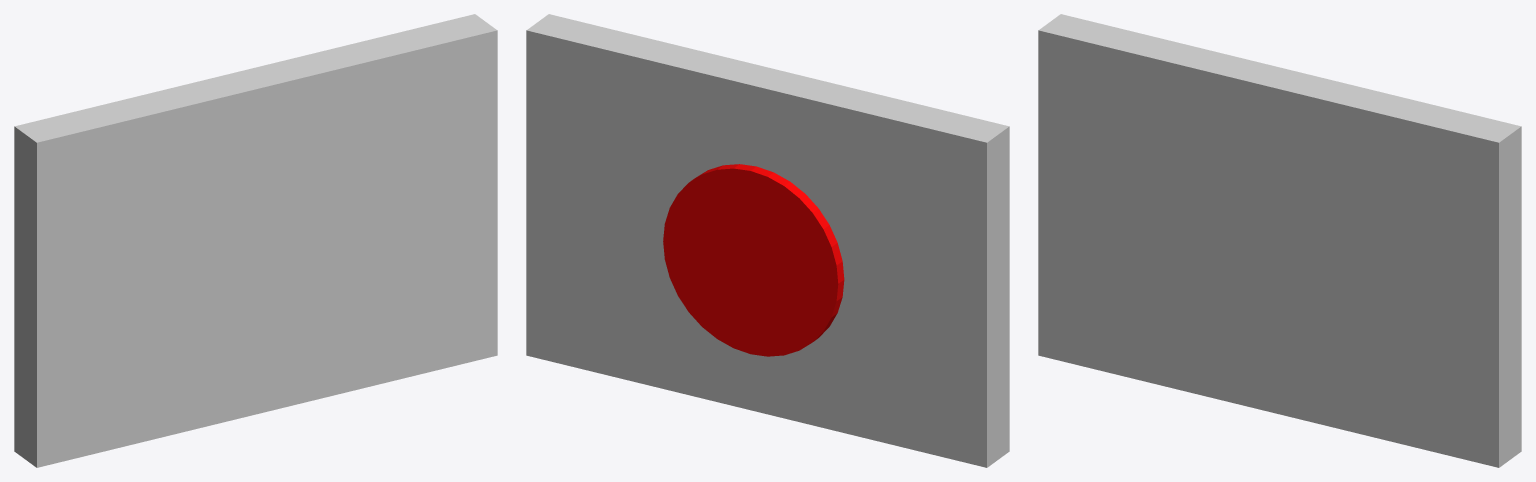
Rendered from Japanese flag.fbx.
The picture shows the model from 3 angles, left to right: view 1: azimuth 30°, elevation 25°; view 2: azimuth 150°, elevation 25°; view 3: azimuth 330°, elevation 25°; orthographic projection.
Parts seen in each view (by area): view 1: Japanese flag; view 2: Japanese flag, Circle; view 3: Japanese flag.
Boxes of the visible parts, x1,y1,x2,y2 form: Japanese flag: (14, 14, 497, 467); Japanese flag: (526, 14, 1009, 467); Circle: (663, 164, 844, 356); Japanese flag: (1038, 14, 1521, 467).
Bounding box in the file's own units: 296 × 200 × 31.75.
